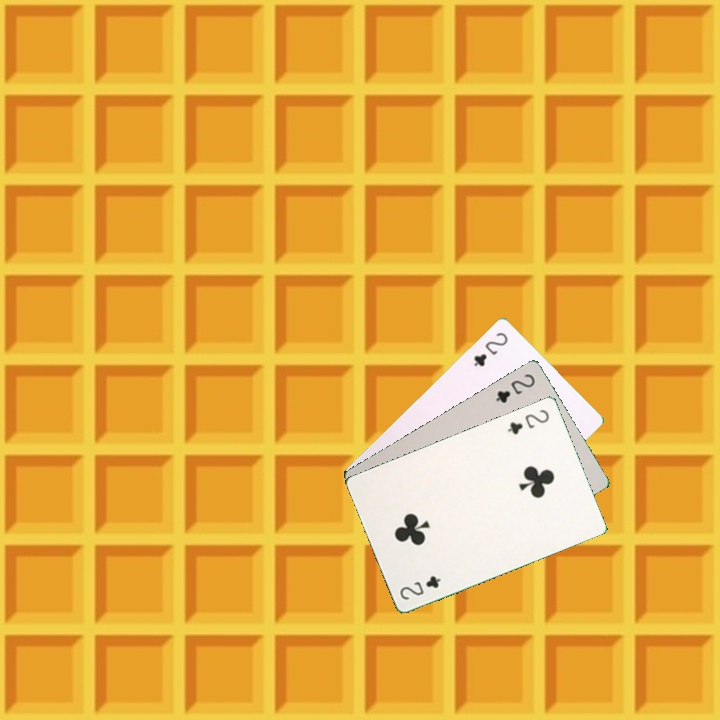2c: (491, 369, 538, 406), (469, 328, 511, 369), (503, 405, 552, 437), (395, 571, 443, 602)
